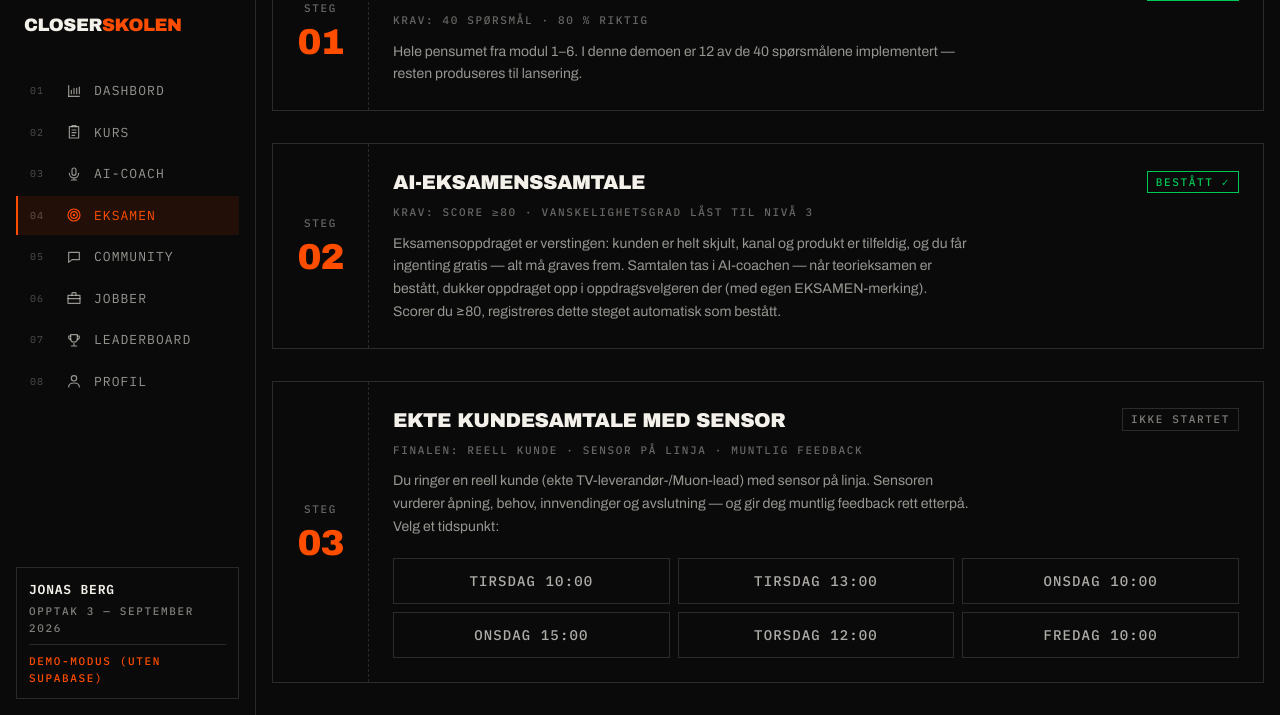
Test: Eksamensflyt (K1 + V4) › booking-slots åpnes når teori + AI-eksamen er bestått
(page scrolled)
Expected: the heading "Ekte kundesamtale med sensor" is shown, x1=393 y1=406 x2=785 y2=434
Click the button "Tirsdag 10:00" at coordinates (531, 581), box x1=393 y1=558 x2=670 y2=604
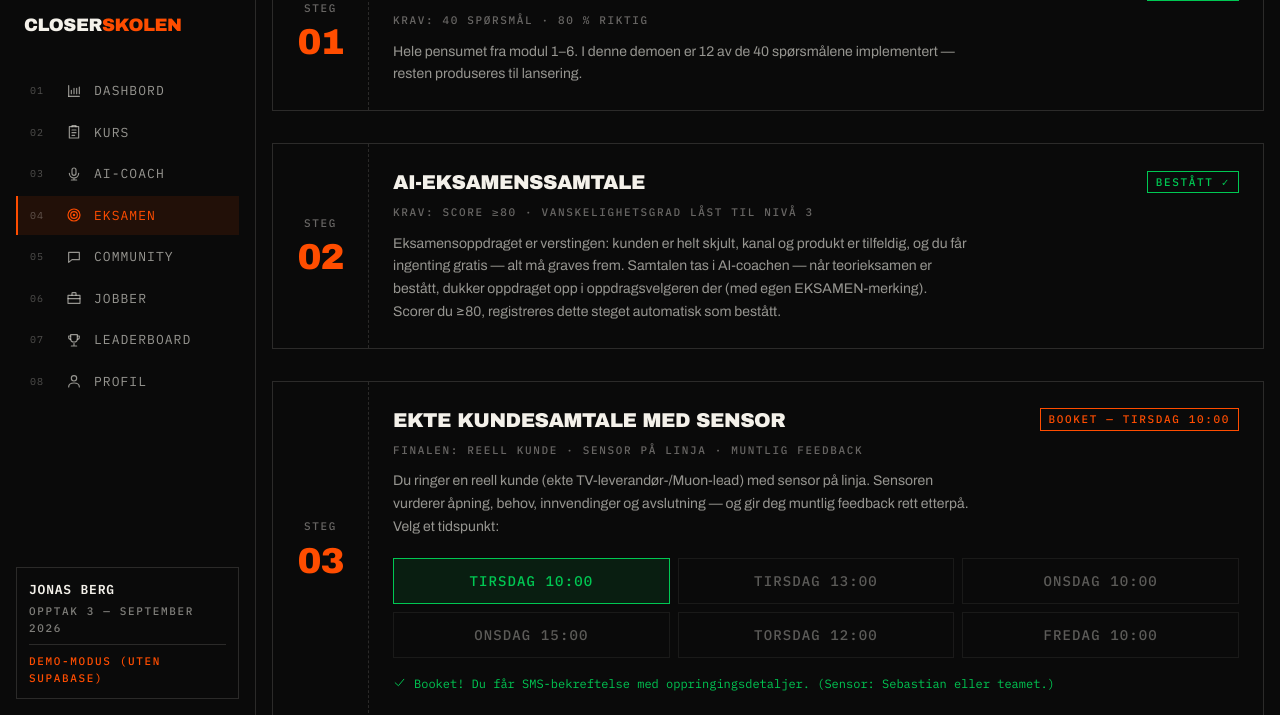
Now the text "Booket! Du får SMS-bekreftelse" is shown, box x1=414 y1=676 x2=1055 y2=691
